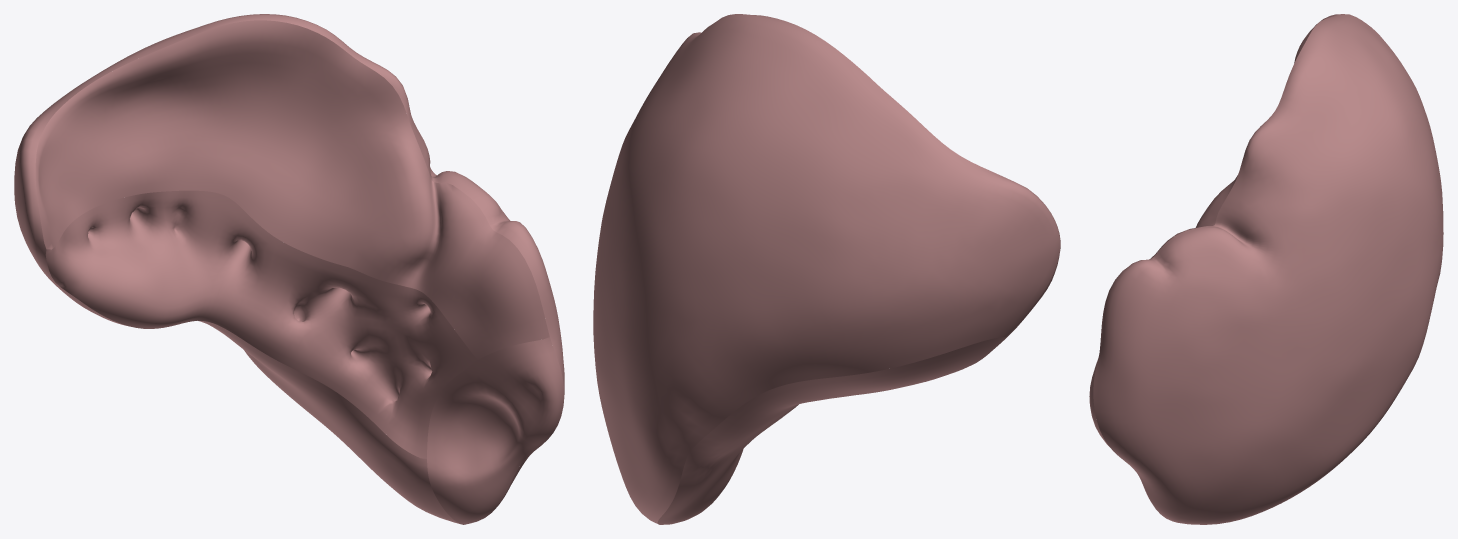
The model's file is spleen-male.glb.
The picture shows the model from 3 angles, left to right: view 1: azimuth 30°, elevation 25°; view 2: azimuth 150°, elevation 25°; view 3: azimuth 270°, elevation 25°; orthographic projection. The views are drawn at different scales.
Visible parts, largest first — view 1: VH_M_gastric_surface_of_spleen, VH_M_hilum_of_spleen, VH_M_colic_surface_of_spleen, VH_M_diaphragmatic_surface_of_spleen, VH_M_renal_surface_of_spleen; view 2: VH_M_diaphragmatic_surface_of_spleen, VH_M_renal_surface_of_spleen; view 3: VH_M_diaphragmatic_surface_of_spleen, VH_M_gastric_surface_of_spleen.
Part boxes in pixels (bbox=[...]): VH_M_gastric_surface_of_spleen: bbox=[35, 20, 549, 359]; VH_M_hilum_of_spleen: bbox=[45, 190, 477, 458]; VH_M_colic_surface_of_spleen: bbox=[427, 337, 564, 524]; VH_M_diaphragmatic_surface_of_spleen: bbox=[14, 14, 564, 505]; VH_M_renal_surface_of_spleen: bbox=[51, 281, 459, 523]; VH_M_diaphragmatic_surface_of_spleen: bbox=[593, 14, 1060, 523]; VH_M_renal_surface_of_spleen: bbox=[657, 337, 1006, 524]; VH_M_diaphragmatic_surface_of_spleen: bbox=[1093, 14, 1443, 524]; VH_M_gastric_surface_of_spleen: bbox=[1149, 27, 1314, 259].
Size of the model in its own units: 0.1104 by 0.1186 by 0.0886.
